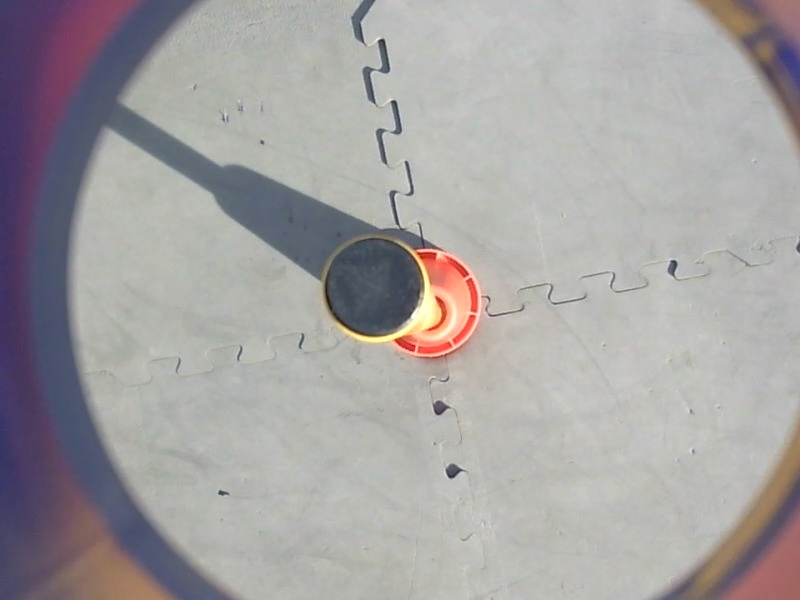tip: (315, 228, 434, 348)
